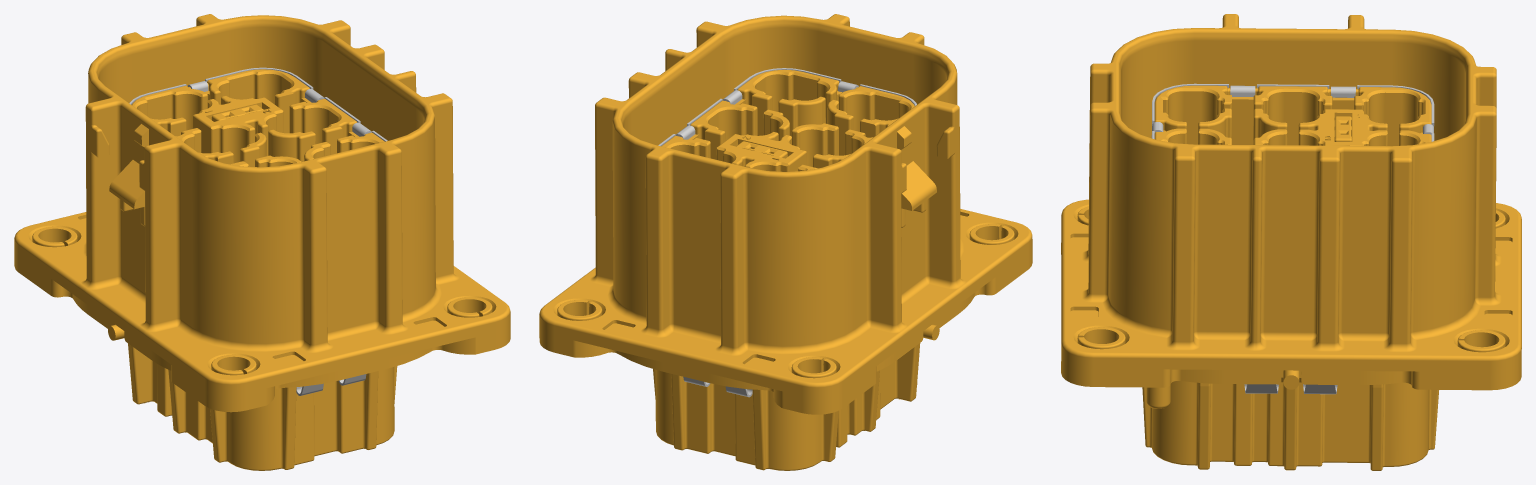
The model's file is EVH2-N6ZJ-RA v1-1.glb.
3 views of the same model, side by side, from view 1: azimuth 30°, elevation 25°; view 2: azimuth 150°, elevation 25°; view 3: azimuth 270°, elevation 25° (orthographic). The views are drawn at different scales.
Visible parts, largest first — view 1: EVH2-N6ZJ-RA v1; view 2: EVH2-N6ZJ-RA v1; view 3: EVH2-N6ZJ-RA v1.
Boxes of the visible parts, bbox=[...] form: EVH2-N6ZJ-RA v1: bbox=[14, 14, 510, 470]; EVH2-N6ZJ-RA v1: bbox=[539, 14, 1032, 470]; EVH2-N6ZJ-RA v1: bbox=[1061, 14, 1521, 470].
Bounding box in the file's own units: 4.6 × 4.69 × 5.73.
